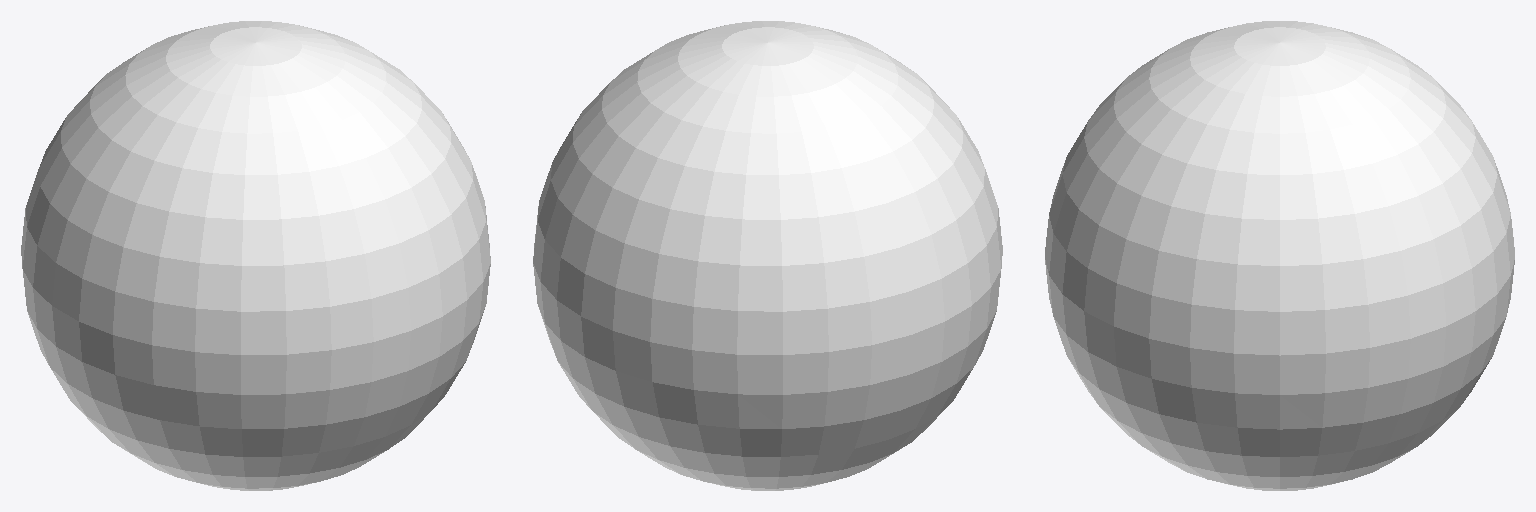
3 views of the same model, side by side, from view 1: azimuth 30°, elevation 25°; view 2: azimuth 150°, elevation 25°; view 3: azimuth 270°, elevation 25° (orthographic).
Visible parts, largest first — view 1: Sphere001; view 2: Sphere001; view 3: Sphere001.
Boxes of the visible parts, box(x1,y1,x2,y2) form: Sphere001: box(21, 21, 490, 490); Sphere001: box(533, 21, 1002, 490); Sphere001: box(1045, 21, 1514, 490).
Size of the model in its own units: 40 by 40 by 40.
1 materials, 1 textured.